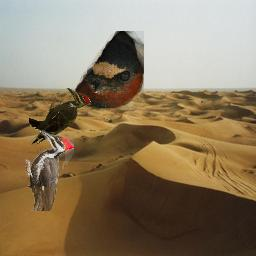Swallow: (75, 31, 144, 110)
Woodpecker: (25, 129, 74, 211), (29, 88, 91, 146)
